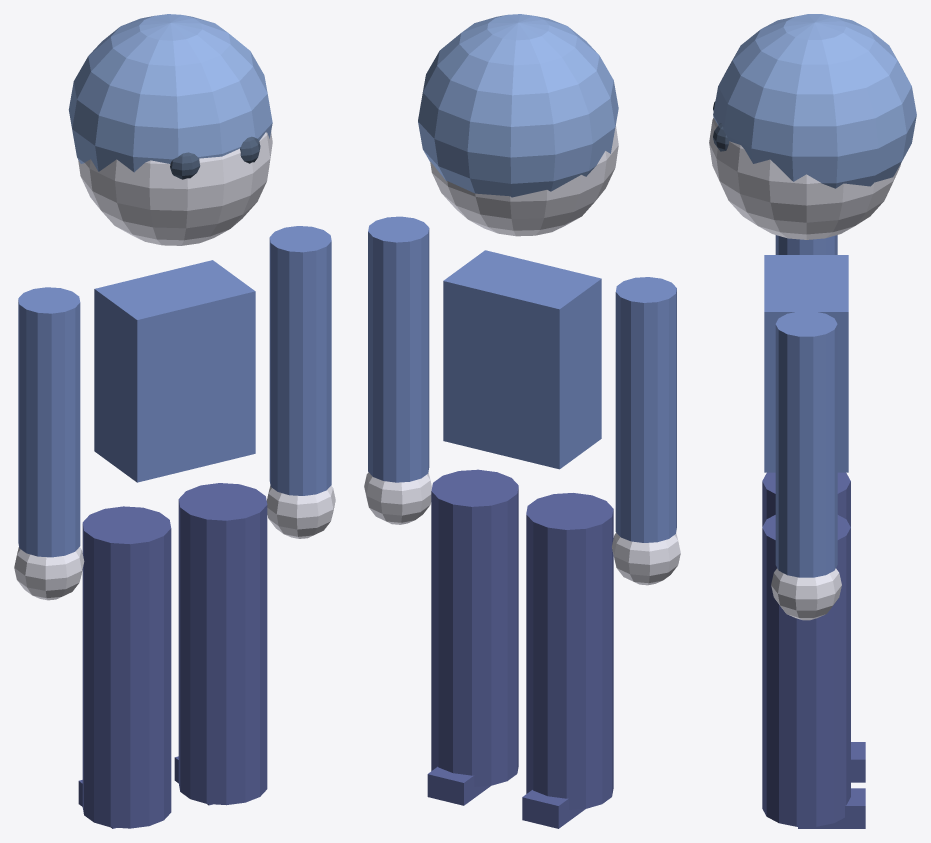
Rendered from LiraelGuardian.fbx.
3 renders of one model, left to right at view 1: azimuth 30°, elevation 25°; view 2: azimuth 150°, elevation 25°; view 3: azimuth 270°, elevation 25°, orthographic.
Visible parts, largest first — view 1: LiraelGuardian; view 2: LiraelGuardian; view 3: LiraelGuardian.
Part boxes in pixels (x1,y1,x2,y2): LiraelGuardian: (14,14,335,828); LiraelGuardian: (364,14,680,828); LiraelGuardian: (709,14,916,828).
Bounding box in the file's own units: 83.98 × 203 × 49.25.
